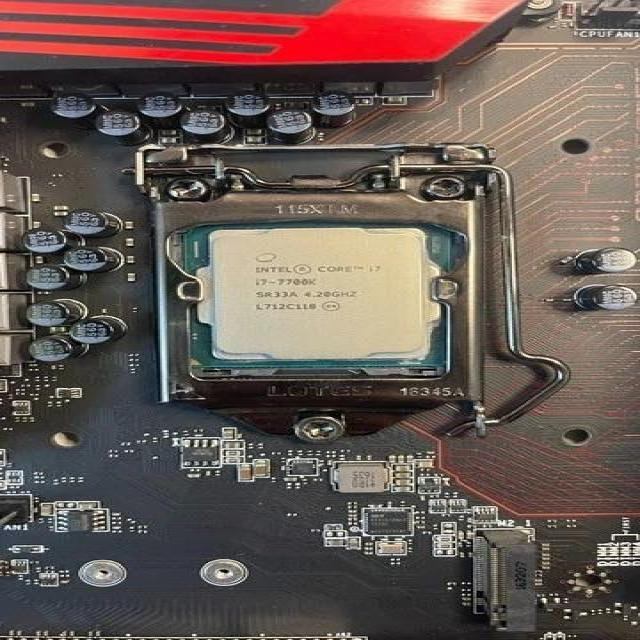CPU: (201, 228, 439, 362)
